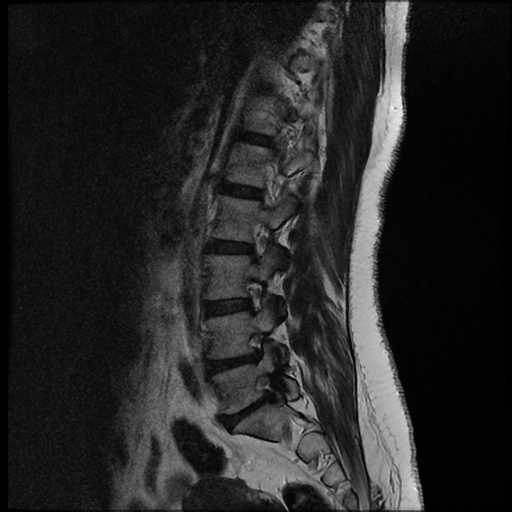RFS0: (236, 272, 278, 320)
RFS1: (245, 368, 289, 412), (236, 326, 282, 367)
